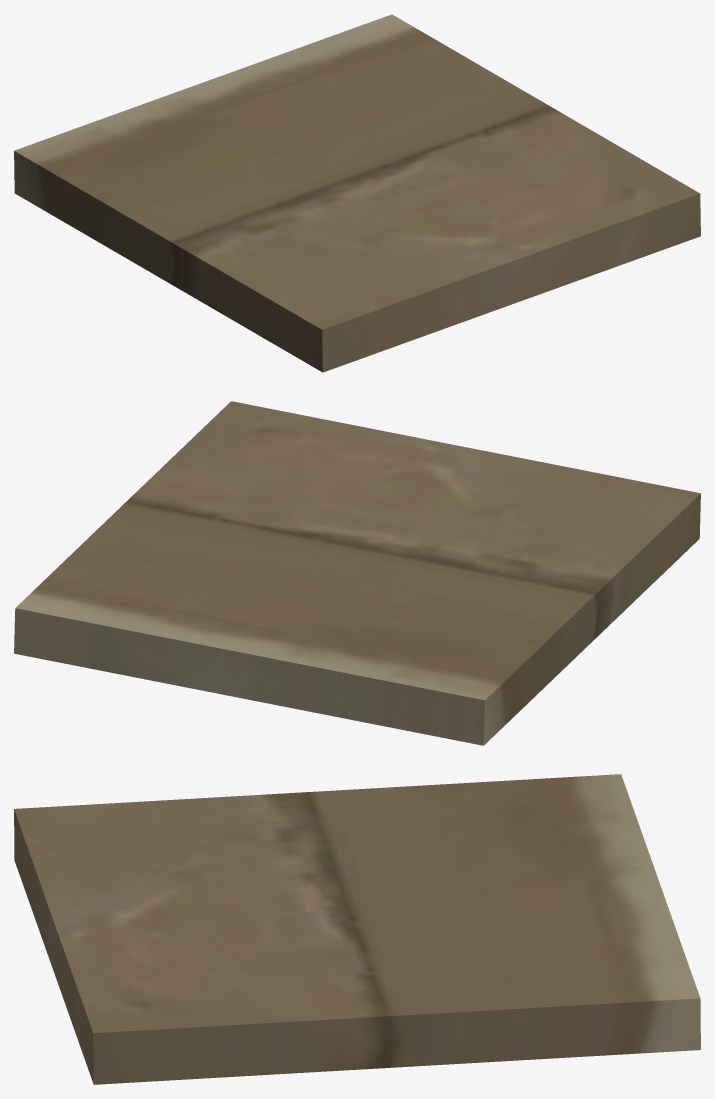
Rendered from fangkuaishitou01.FBX.
3 renders of one model, top to bottom at view 1: azimuth 30°, elevation 25°; view 2: azimuth 150°, elevation 25°; view 3: azimuth 270°, elevation 25°, orthographic. The views are drawn at different scales.
Parts seen in each view (by area): view 1: fangkuaishitou01; view 2: fangkuaishitou01; view 3: fangkuaishitou01.
Boxes of the visible parts, left/top/right/bottom form: fangkuaishitou01: left=14, top=14, right=700, bottom=372; fangkuaishitou01: left=14, top=401, right=700, bottom=745; fangkuaishitou01: left=14, top=774, right=700, bottom=1084.
Size of the model in its own units: 44.47 by 5.38 by 48.13.
